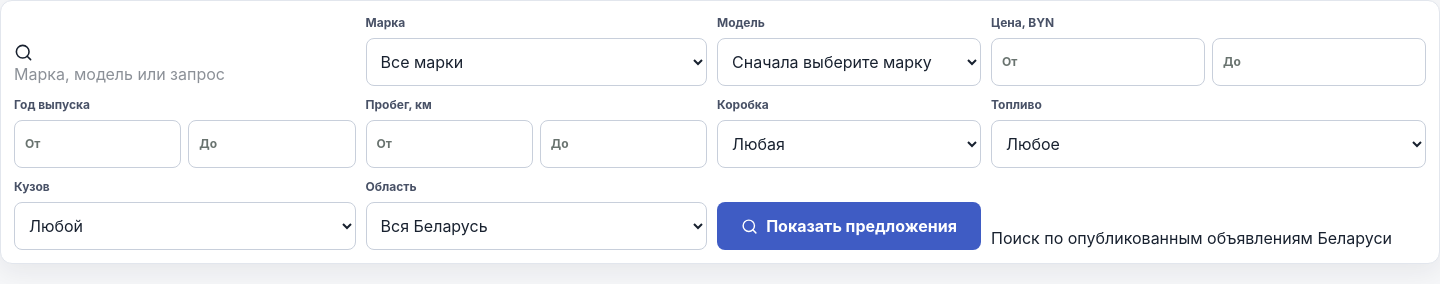
home search › loads models only for the selected make and clears the dependent model
This screenshot has width=1440, height=284.
Select "Марка" in the dropdown labelled "Марка" at point(536, 62), box [366,38,707,86]
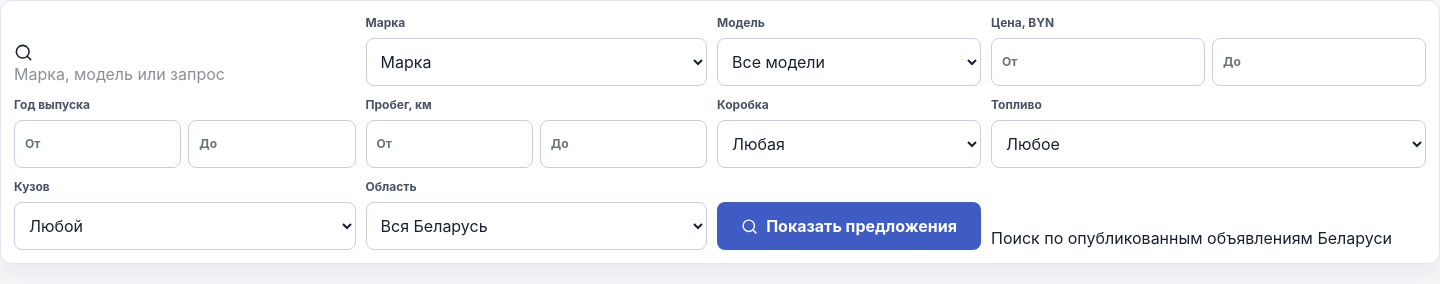
Check: the dropdown named "model_id" is enabled, box [717,38,981,86]
